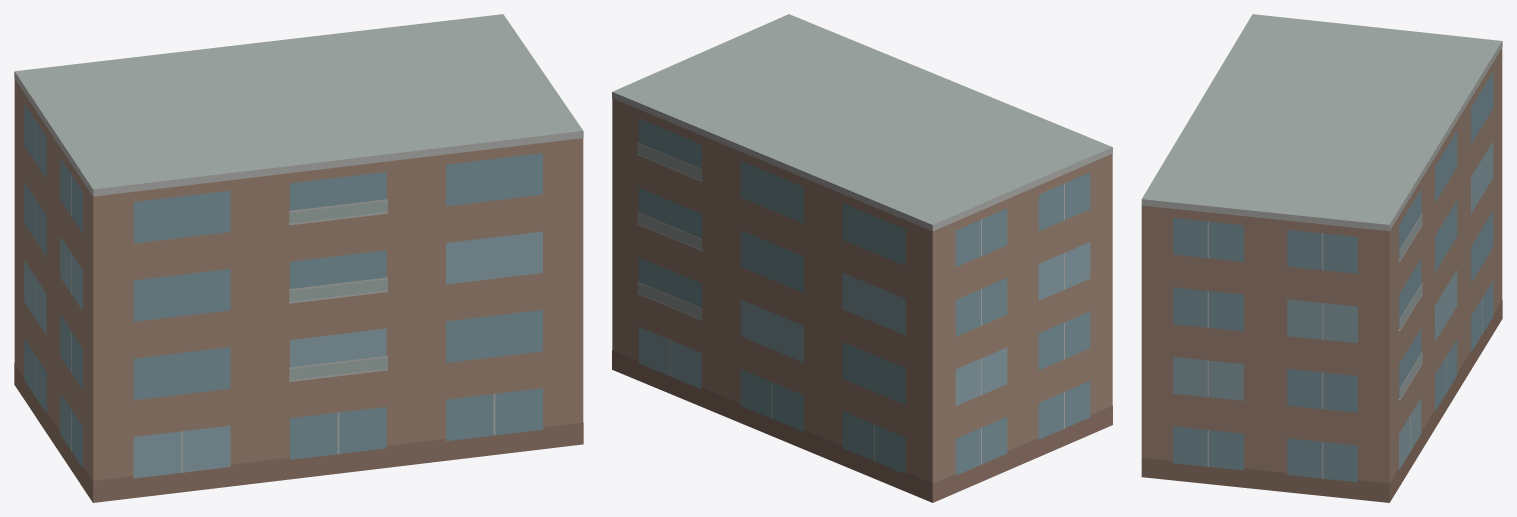
The model's file is survey-upis-32703931.glb.
The picture shows the model from 3 angles, left to right: view 1: azimuth 30°, elevation 25°; view 2: azimuth 150°, elevation 25°; view 3: azimuth 270°, elevation 25°; orthographic projection. The views are drawn at different scales.
Parts seen in each view (by area): view 1: survey-upis-32703931.tmp; view 2: survey-upis-32703931.tmp; view 3: survey-upis-32703931.tmp.
Part boxes in pixels (left/top/right/bottom): survey-upis-32703931.tmp: left=14, top=14, right=583, bottom=502; survey-upis-32703931.tmp: left=612, top=14, right=1112, bottom=502; survey-upis-32703931.tmp: left=1141, top=14, right=1502, bottom=502.
Size of the model in its own units: 17.43 by 10.7 by 12.6.
